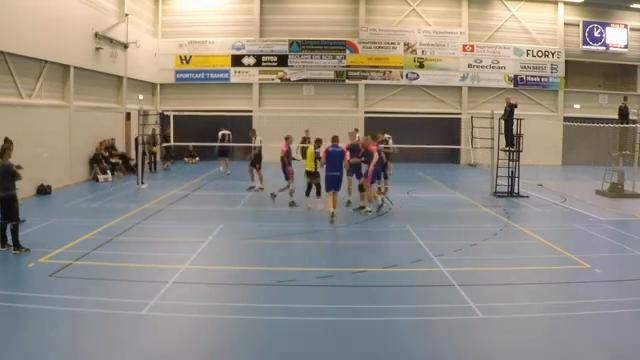Player: (323, 135, 347, 223), (270, 135, 298, 206), (362, 135, 383, 213), (345, 131, 362, 206), (304, 138, 321, 208), (247, 129, 263, 190), (377, 133, 392, 193), (217, 128, 231, 174), (297, 129, 310, 159), (383, 133, 397, 155), (354, 128, 360, 141)
